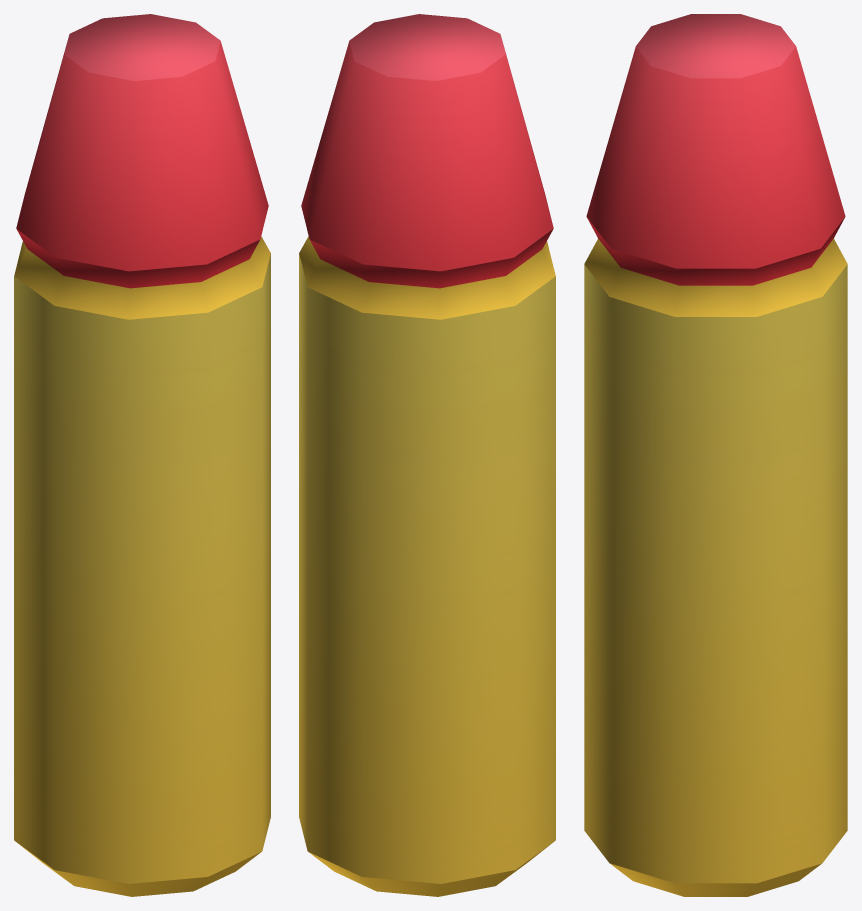
The model's file is Bullet B.fbx.
3 views of the same model, side by side, from view 1: azimuth 30°, elevation 25°; view 2: azimuth 150°, elevation 25°; view 3: azimuth 270°, elevation 25° (orthographic).
Visible parts, largest first — view 1: Bullet B; view 2: Bullet B; view 3: Bullet B.
Part boxes in pixels (x1,y1,x2,y2): Bullet B: [14, 14, 270, 896]; Bullet B: [299, 14, 555, 896]; Bullet B: [584, 14, 847, 896].
Bounding box in the file's own units: 0.0549 × 0.1955 × 0.0577.
